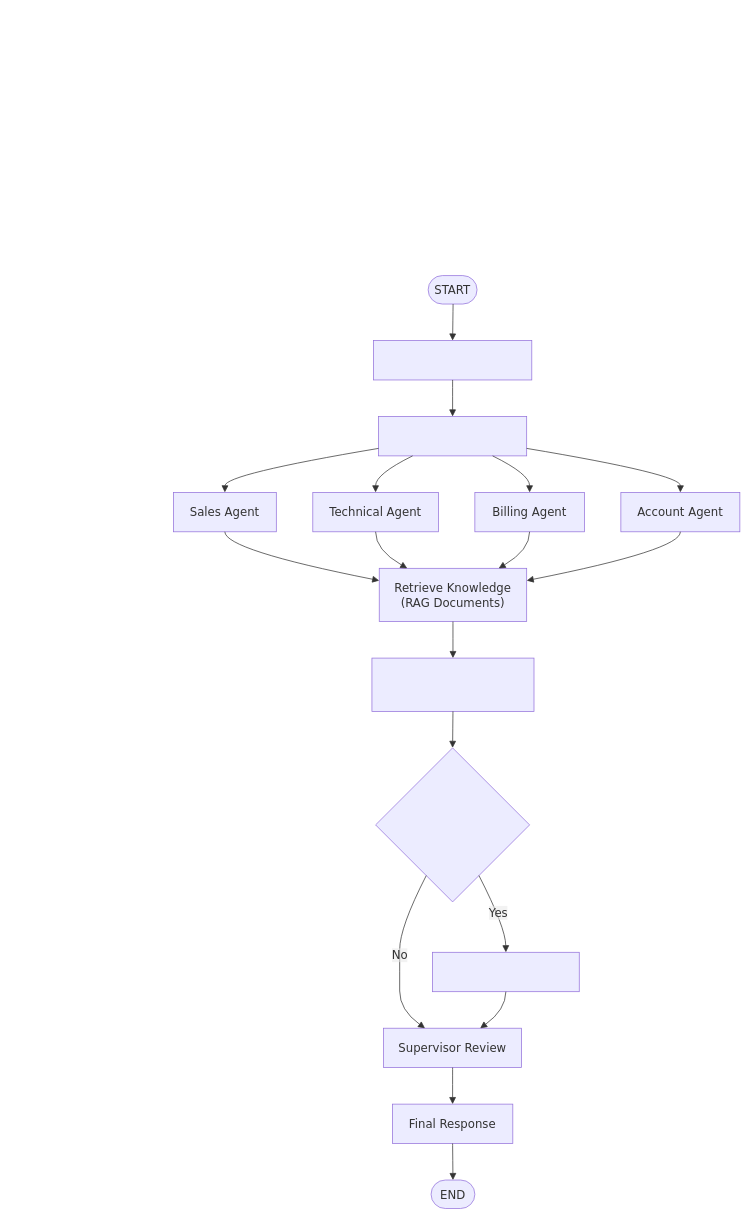
The diagram is 753 pixels wide and 1221 high, and some of its shapes have lost their labels. Here are the shapes that lost their labels. From the top down, the centre of each, then its label:
At point 452,360: "Customer Query Input".
At point 452,436: "Intent Classification".
At point 452,684: "Save/Retrieve Memory (SQLite Database)".
At point 452,824: "Human Approval?".
At point 505,972: "Supervisor Approval".
